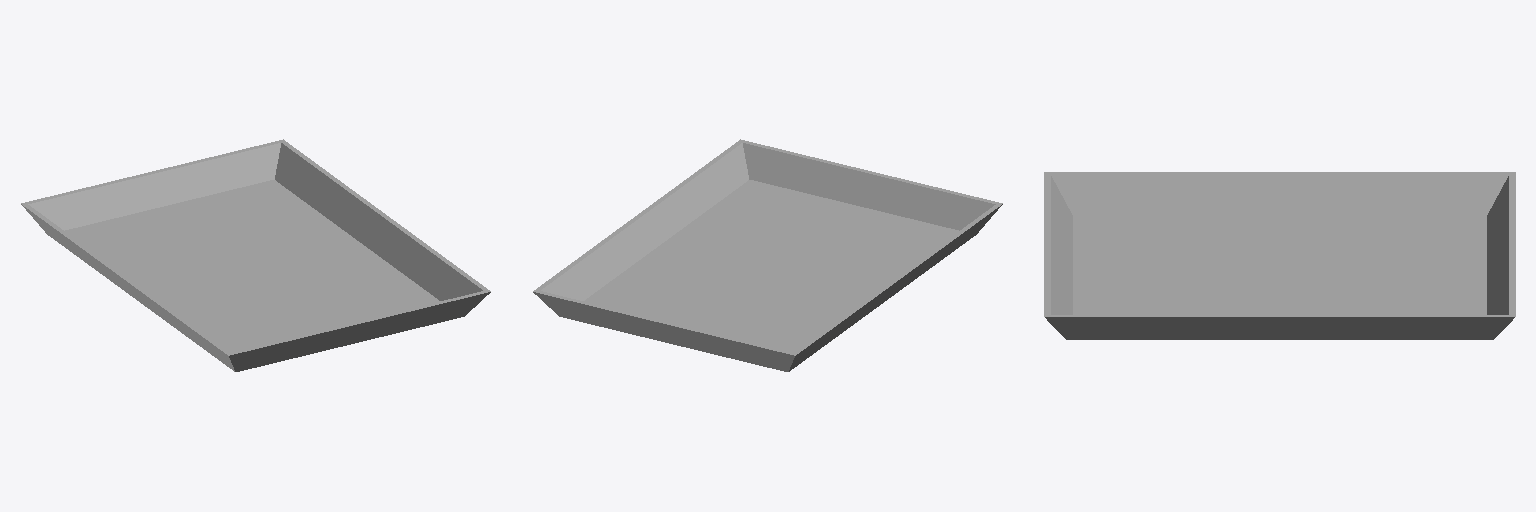
The robot description file, URDF, robot "tray":
<robot name="tray">
  <link name="tray_base_link">
    <contact>
      <lateral_friction value="0.5"/>
      <rolling_friction value="0.0"/>
      <contact_cfm value="0.0"/>
      <contact_erp value="1.0"/>
    </contact>
    <inertial>
      <origin rpy="0 0 0" xyz="0 0 0"/>
      <mass value="0"/>
      <inertia ixx="0" ixy="0" ixz="0" iyy="0" iyz="0" izz="0"/>
    </inertial>
    <visual>
      <origin rpy="0 0 0" xyz="0 0 0"/>
      <geometry>
        <mesh filename="tray3.obj" scale="0.001 0.001 0.001"/>
      </geometry>
      <material name="tray_material">
        <color rgba="0.7 0.7 0.7 1"/>
      </material>
    </visual>
    <collision>
      <origin rpy="0 0 0" xyz="0 0 0"/>
      <geometry>
        <mesh filename="tray3.obj" scale="0.001 0.001 0.001"/>
      </geometry>
    </collision>
  </link>
</robot>

--- Render facts (derived) ---
Views: 3 orthographic renders of the robot side by side, from view 1: azimuth 30°, elevation 25°; view 2: azimuth 150°, elevation 25°; view 3: azimuth 270°, elevation 25°.
Model tray with 1 links and 0 joints (none), rooted at tray_base_link, posed every joint at zero.
Visible links, largest first — view 1: tray_base_link; view 2: tray_base_link; view 3: tray_base_link.
Link boxes in pixels (x1,y1,x2,y2): tray_base_link: [21, 139, 490, 371]; tray_base_link: [533, 139, 1002, 371]; tray_base_link: [1044, 172, 1515, 339].
Size in the robot's own frame: 0.54 by 0.74 by 0.055 metres.
Meshes: 1 distinct files referenced, 1 mesh visuals loaded (1 OBJ).